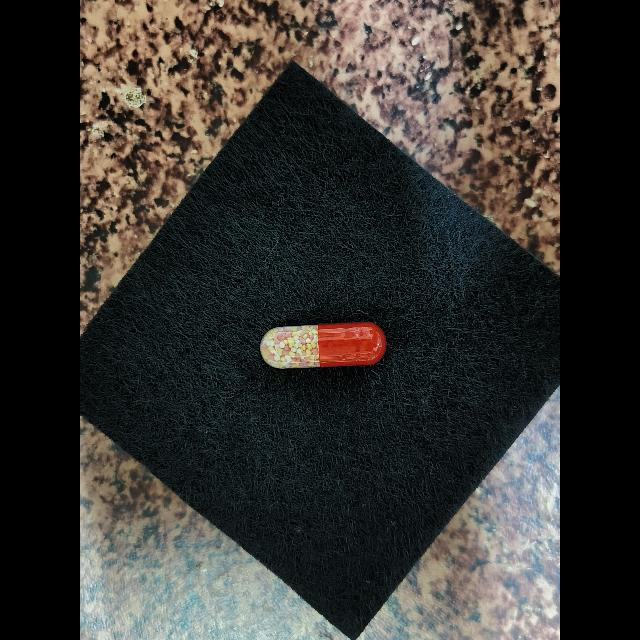Intact Capsule: (260, 322, 386, 369)
